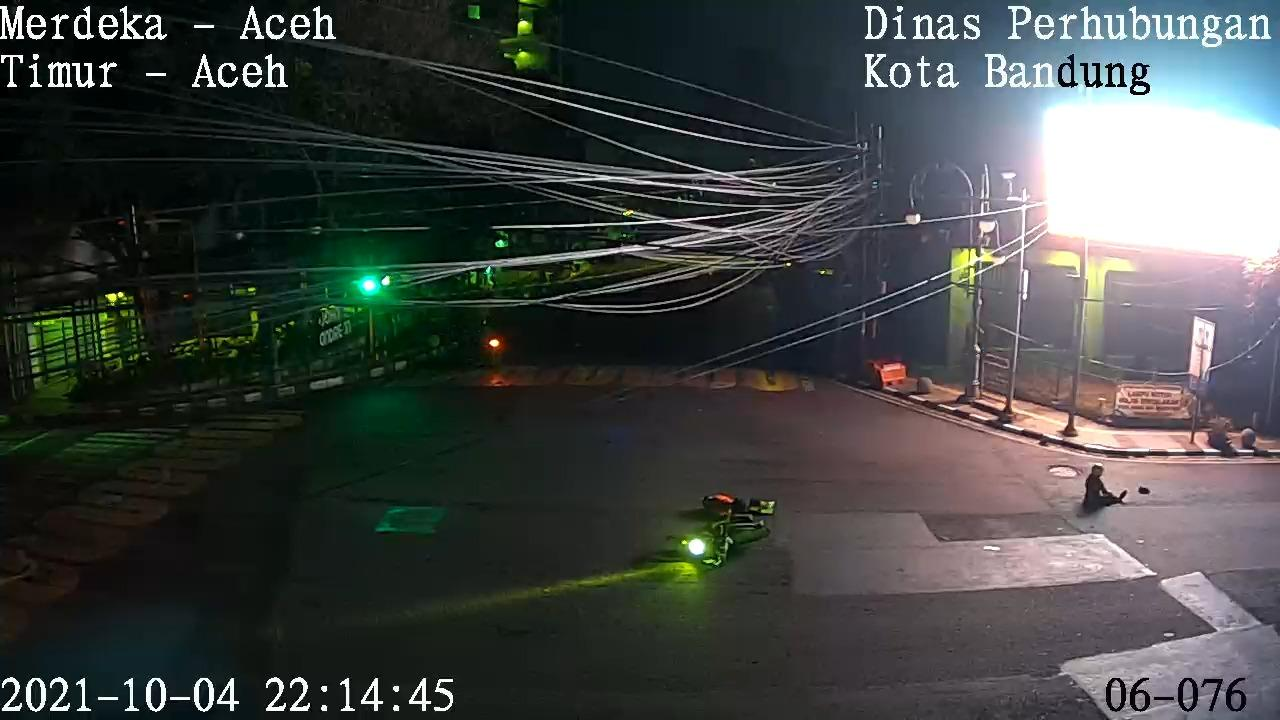accident: (1069, 455, 1135, 523), (693, 483, 784, 528)
